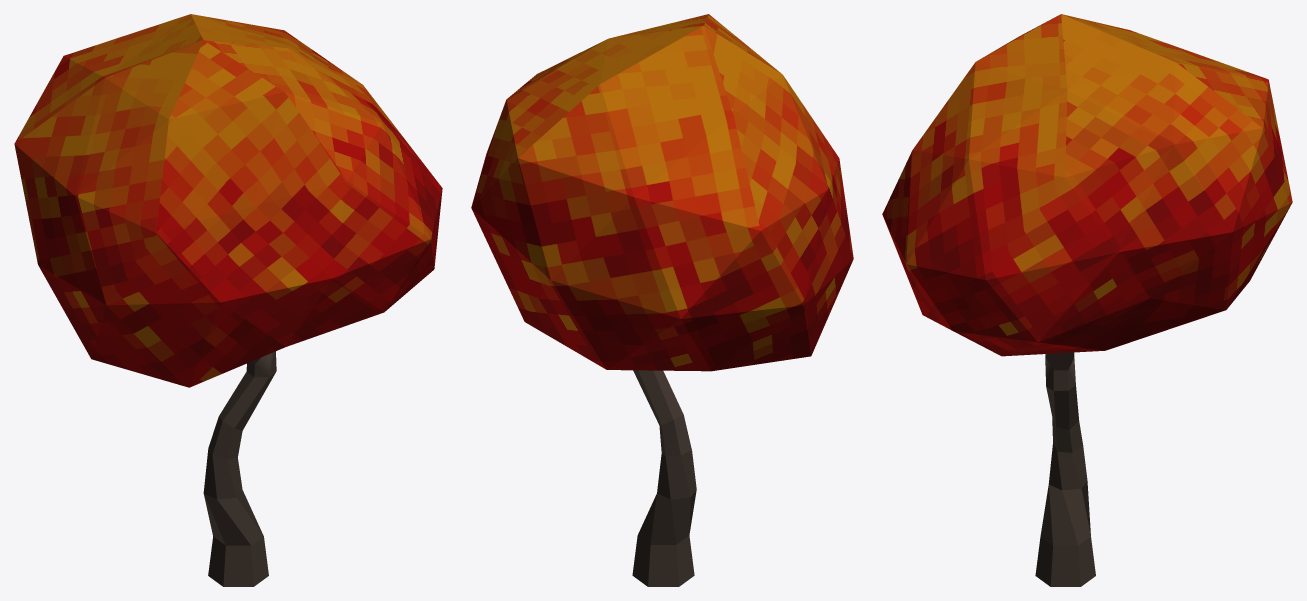
File: tree1red.glb
3 views of the same model, side by side, from view 1: azimuth 30°, elevation 25°; view 2: azimuth 150°, elevation 25°; view 3: azimuth 270°, elevation 25° (orthographic). The views are drawn at different scales.
Visible parts, largest first — view 1: Icosphere.001, Cylinder.001; view 2: Icosphere.001, Cylinder.001; view 3: Icosphere.001, Cylinder.001.
Boxes of the visible parts, x1,y1,x2,y2 form: Icosphere.001: (14,14,442,387); Cylinder.001: (203,351,276,586); Icosphere.001: (471,14,853,371); Cylinder.001: (632,370,696,586); Icosphere.001: (882,14,1292,356); Cylinder.001: (1035,352,1095,586).
Bounding box in the file's own units: 12.62 × 19.79 × 13.54.
2 materials, 1 textured.
